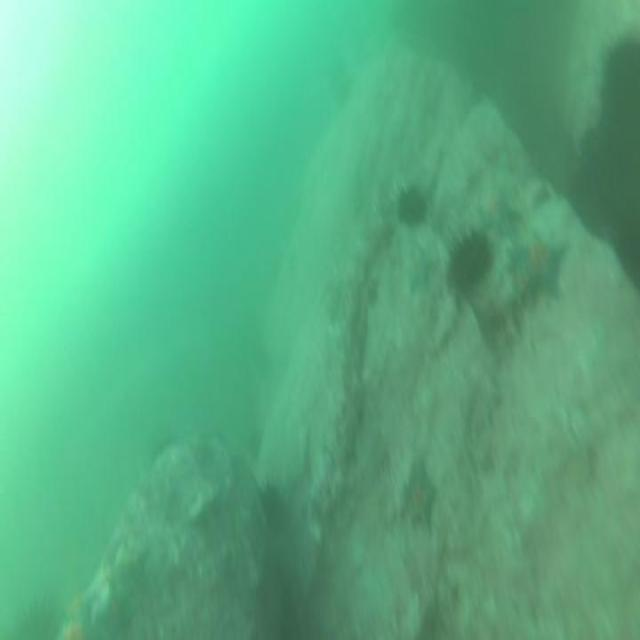echinus: (568, 128, 627, 239), (599, 36, 640, 171), (443, 223, 492, 308), (610, 198, 638, 296), (393, 179, 428, 229), (257, 479, 283, 540)
starfish: (509, 226, 571, 310), (476, 185, 526, 242), (397, 462, 438, 530), (404, 242, 434, 300)
